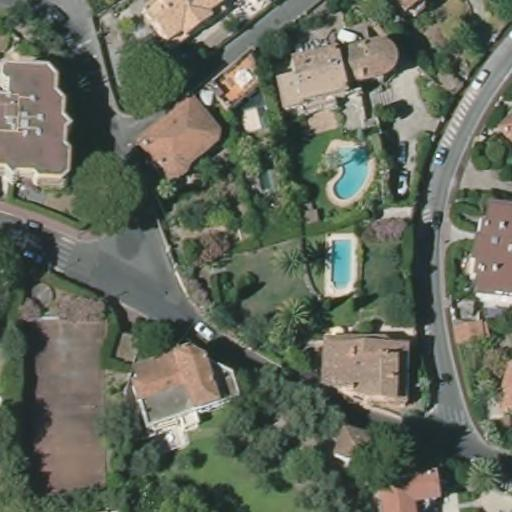pool: (329, 144, 371, 198), (326, 234, 358, 292)
